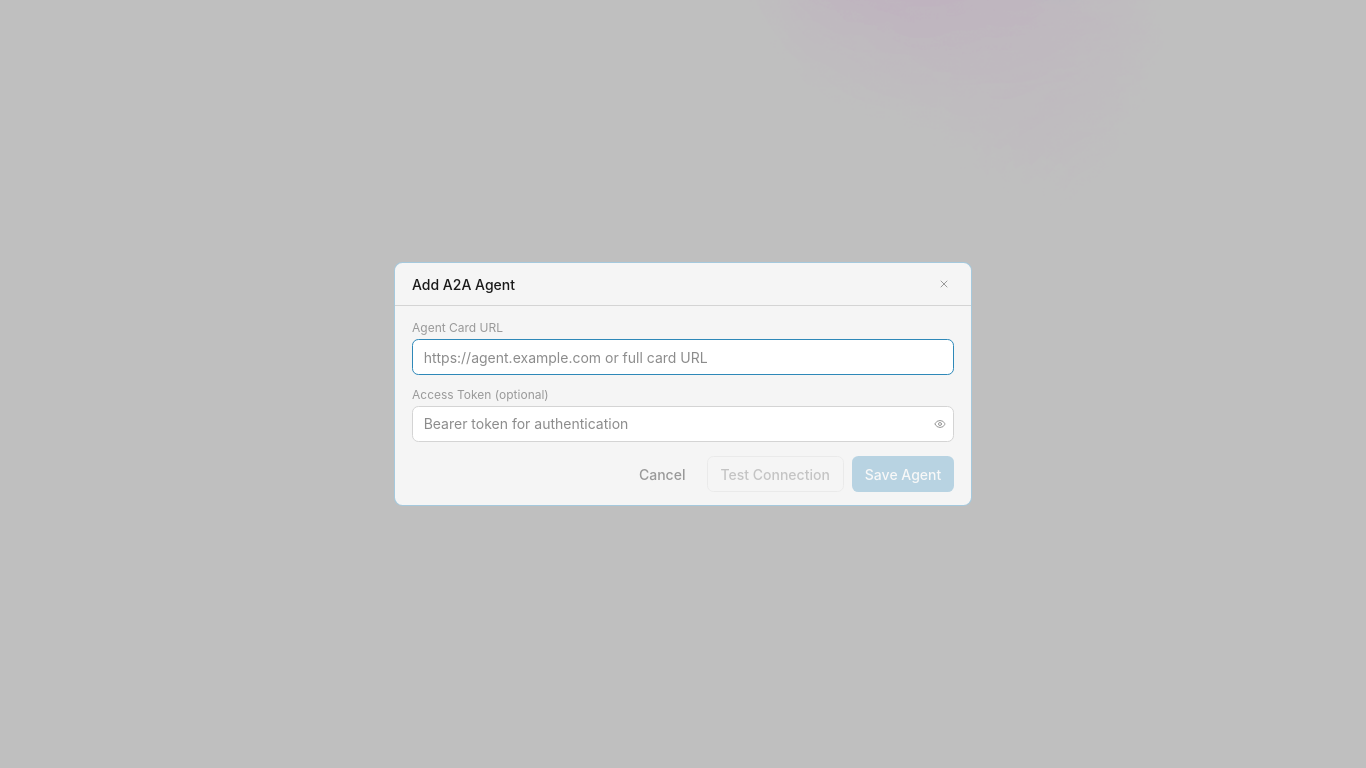
it: keeps the dialog and entered URL when saving returns an error
Step 1. Type "invalid-url" into the field labelled "Agent Card URL" → (683, 357), box [412, 339, 954, 375]
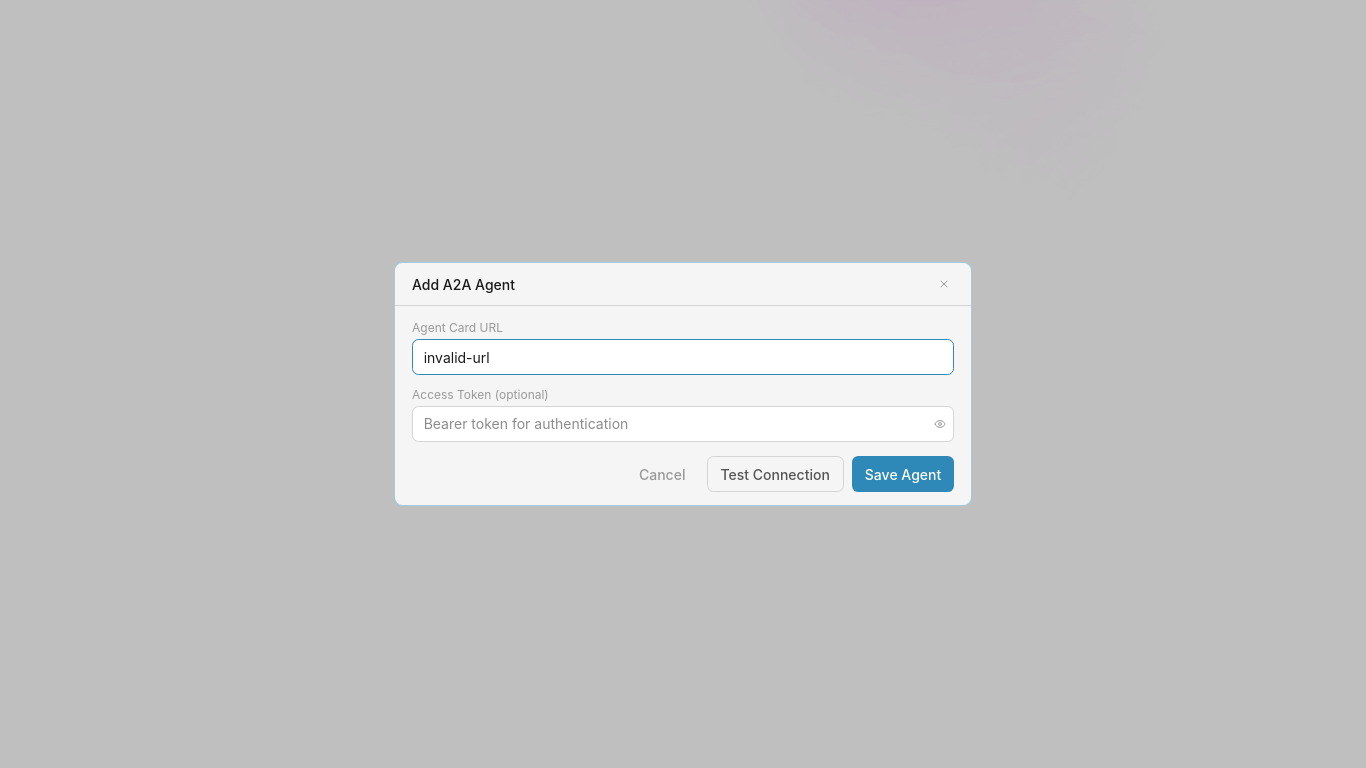
Step 2. Click the button "Save Agent" → click(903, 474), box [852, 456, 954, 492]
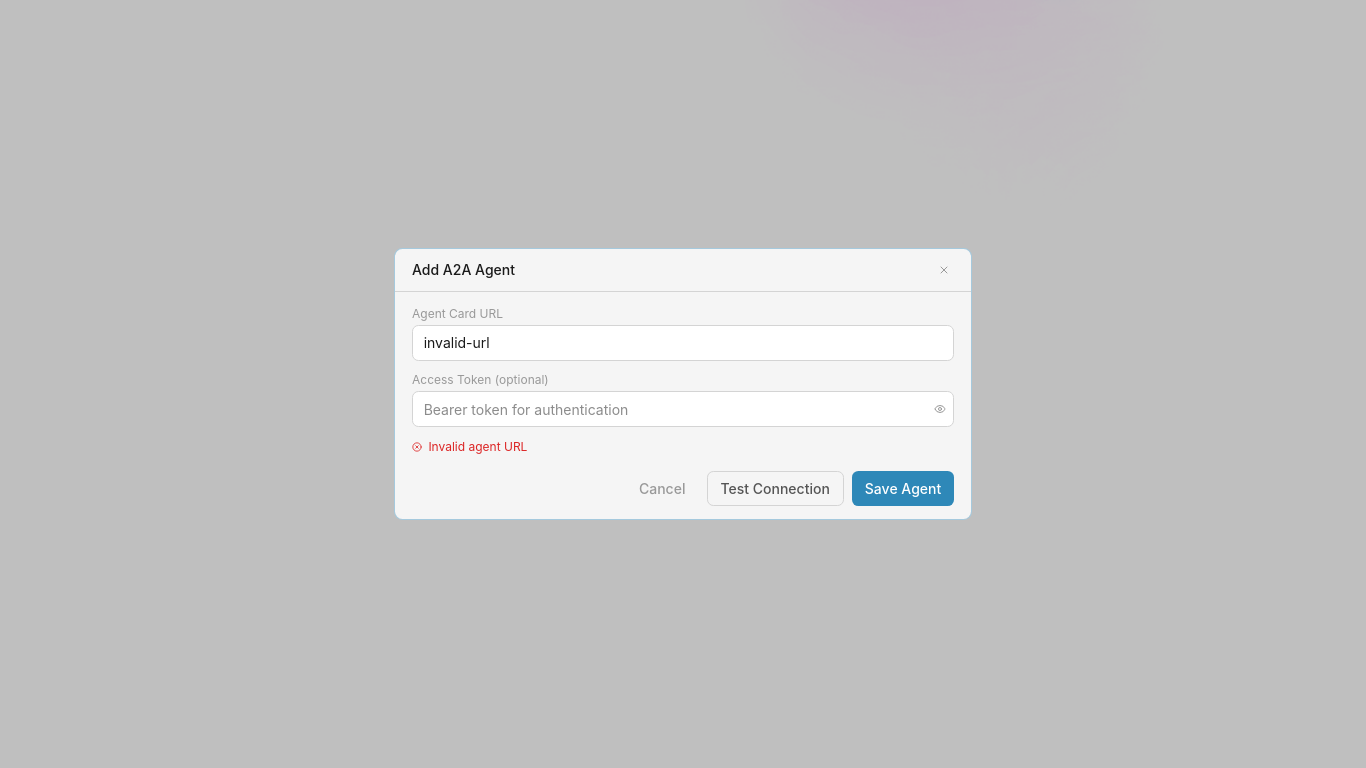
Check: the text "Invalid agent URL" is shown, box [428, 438, 527, 456]
